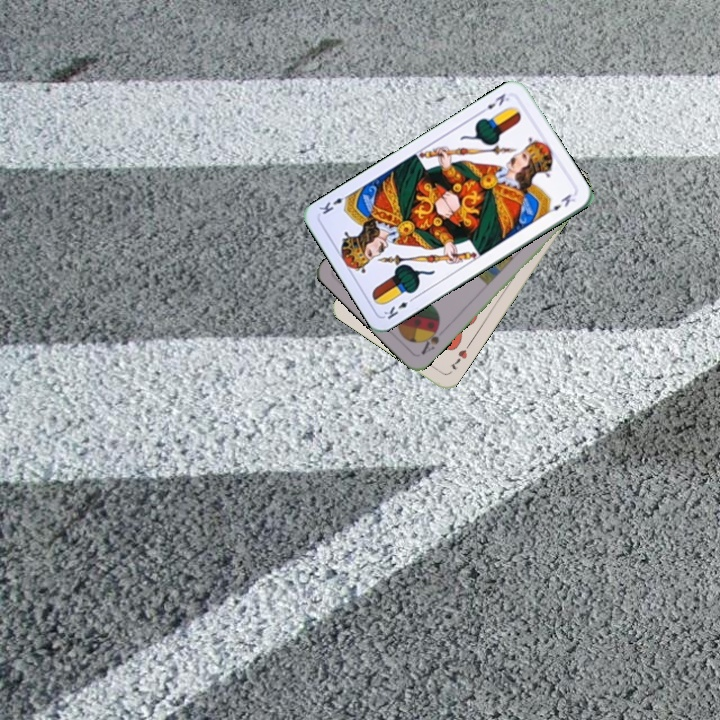EK: (380, 293, 417, 322), (476, 89, 512, 116)
H7: (446, 345, 470, 372)
SA: (417, 321, 443, 357)
